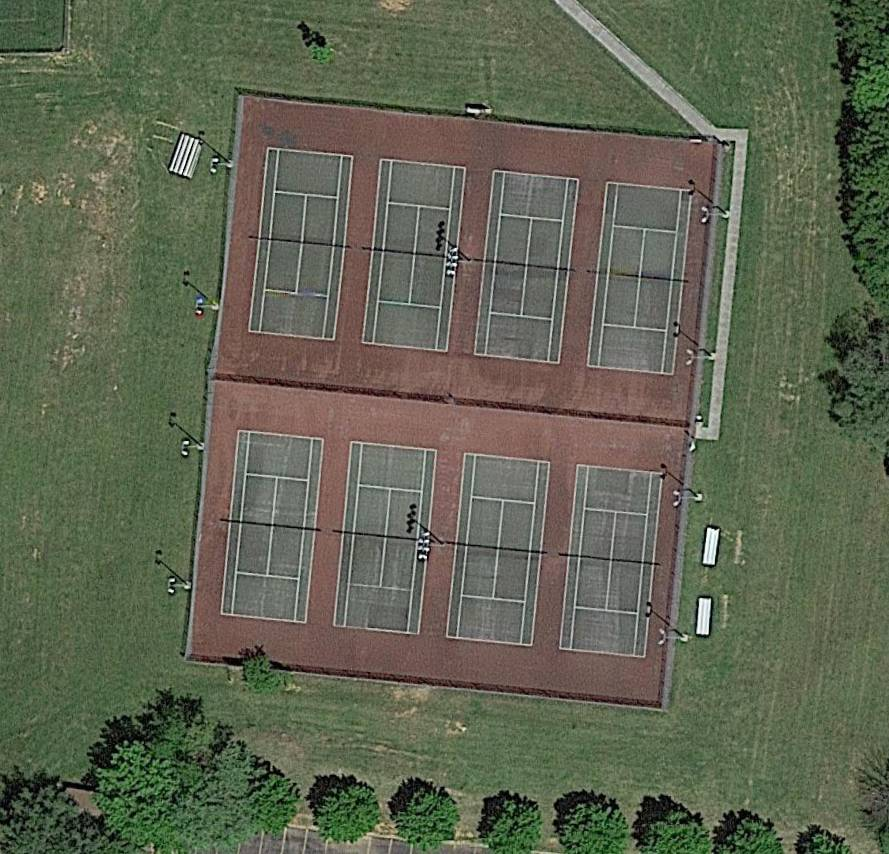tennis court: (246, 147, 355, 341), (559, 463, 666, 658), (472, 169, 579, 364), (362, 159, 469, 352), (333, 440, 438, 636), (221, 429, 325, 624), (587, 181, 691, 376), (447, 452, 551, 646)
